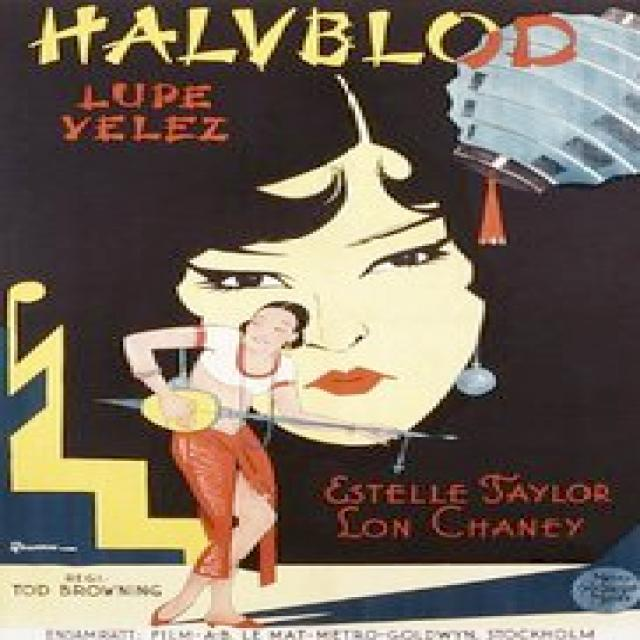movie-judul: (22, 2, 602, 78)
picture: (182, 147, 486, 434), (95, 295, 335, 626)
